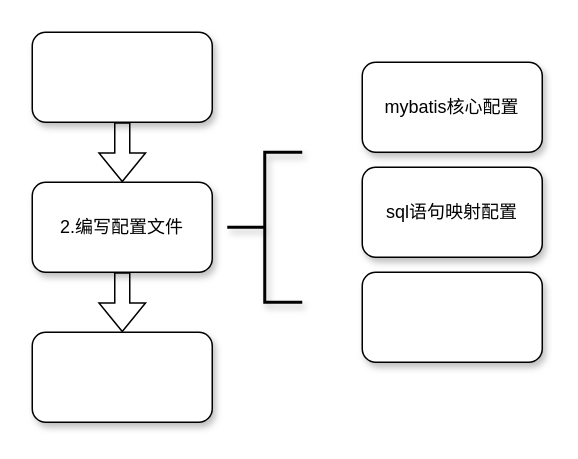
Image size: 578x459. Some labels were removed from this diagram. The centre of each missing label's shape, as x and y in pixels:
1.导入依赖坐标: (123,79)
3.编写JavaBean: (123,379)
